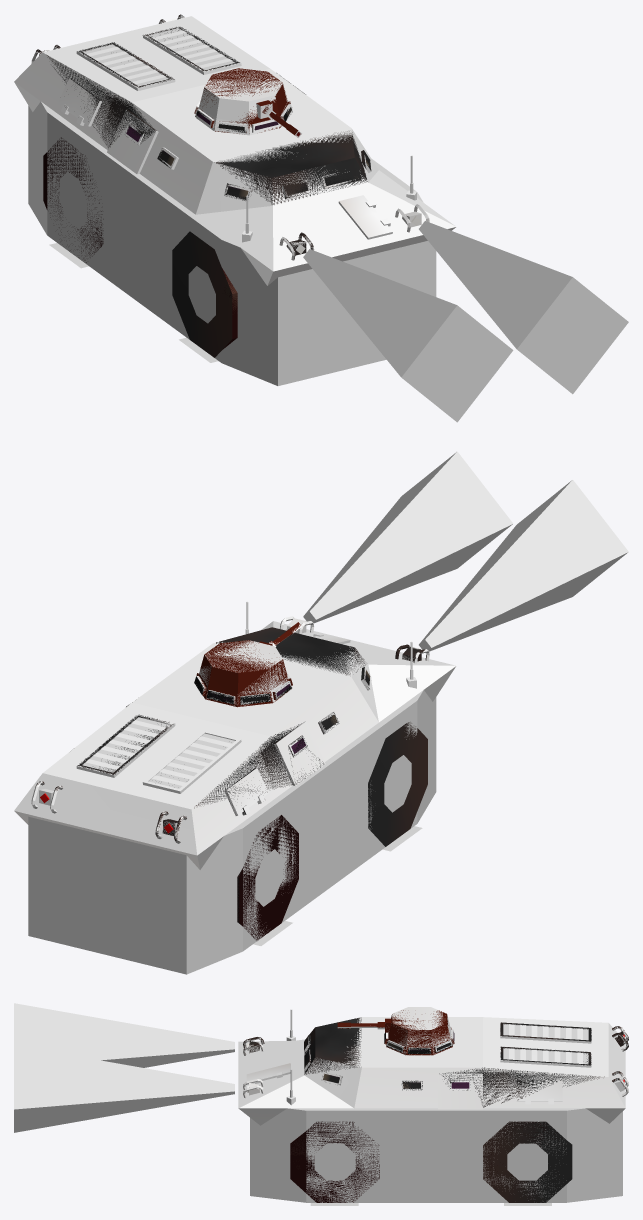
File: RIOT.fbx
3 renders of one model, top to bottom at view 1: azimuth 30°, elevation 25°; view 2: azimuth 150°, elevation 25°; view 3: azimuth 270°, elevation 25°, orthographic. The views are drawn at different scales.
Parts seen in each view (by area): view 1: riot, riot_cldr, riot_gr, riot_dead, riot_lckd, riot_frontwheels, turretY, DeadDamageMesh, TireSmokeMesh; view 2: riot_cldr, riot, riot_gr, riot_lckd, riot_dead, riot_frontwheels, turretY, DeadDamageMesh; view 3: riot_cldr, riot, riot_gr, riot_lckd, riot_dead, riot_rearwheels, turretY, DeadDamageMesh.
Part boxes in pixels (x1,y1,x2,y2): riot: [14, 14, 456, 285]; riot_cldr: [28, 101, 436, 385]; riot_gr: [303, 221, 628, 422]; riot_dead: [36, 14, 371, 259]; riot_lckd: [43, 68, 332, 349]; riot_frontwheels: [172, 231, 237, 357]; turretY: [194, 69, 292, 135]; DeadDamageMesh: [83, 29, 234, 86]; TireSmokeMesh: [49, 243, 218, 362]; riot_cldr: [28, 690, 436, 974]; riot: [14, 601, 456, 869]; riot_gr: [303, 451, 628, 651]; riot_lckd: [194, 622, 307, 940]; riot_dead: [36, 627, 426, 841]; riot_frontwheels: [368, 722, 427, 846]; turretY: [195, 640, 291, 706]; DeadDamageMesh: [83, 717, 234, 788]; riot_cldr: [250, 1039, 622, 1202]; riot: [238, 1009, 628, 1125]; riot_gr: [14, 1003, 234, 1132]; riot_lckd: [290, 1010, 557, 1202]; riot_dead: [243, 1017, 628, 1107]; riot_rearwheels: [483, 1121, 572, 1202]; turretY: [385, 1007, 454, 1055]; DeadDamageMesh: [503, 1024, 588, 1064].
Bounding box in the file's own units: 5.62 × 4.7 × 17.61.
